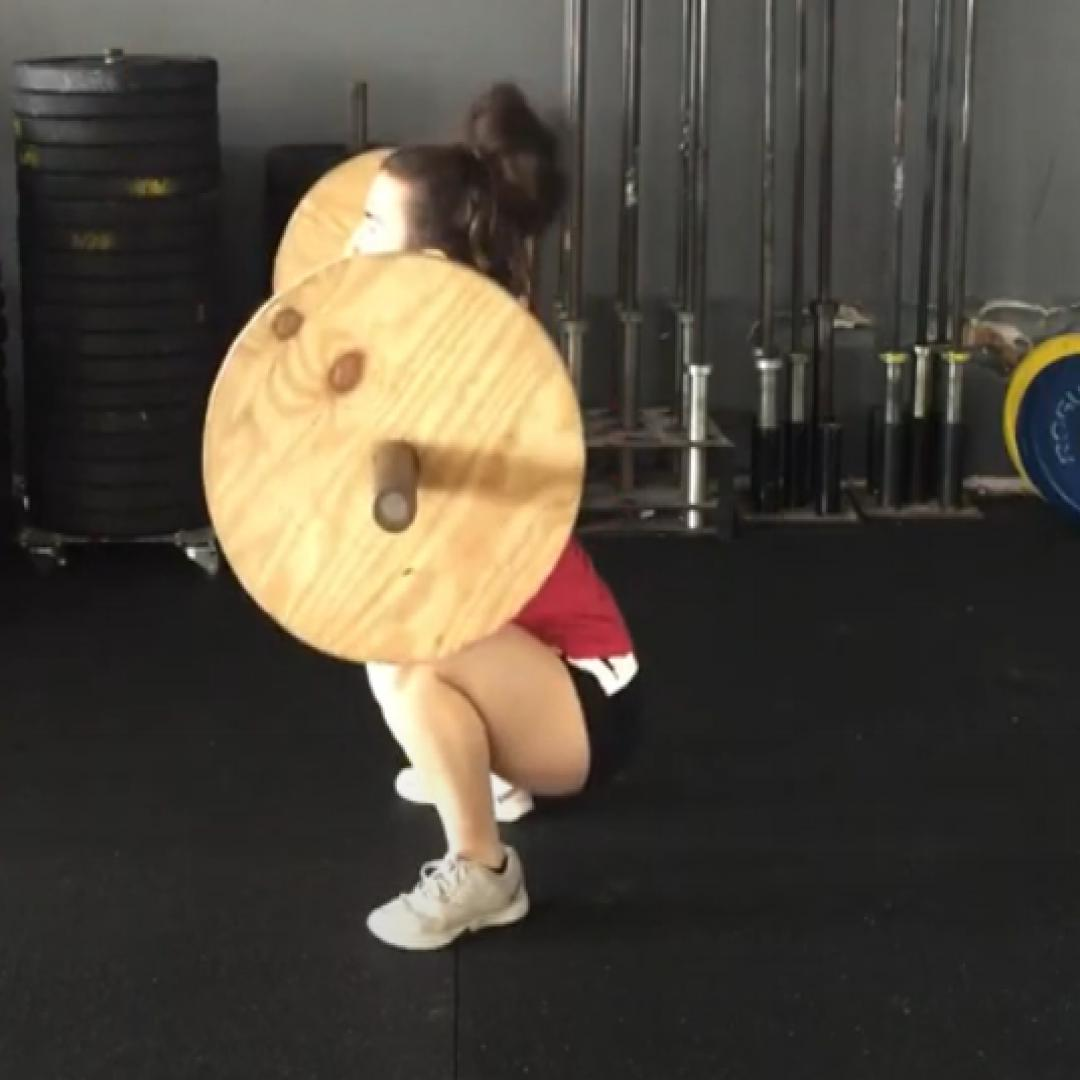Bar: (371, 480, 419, 536)
Barbell: (201, 252, 584, 664)
